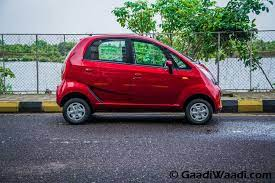Nano: (57, 33, 223, 129)
